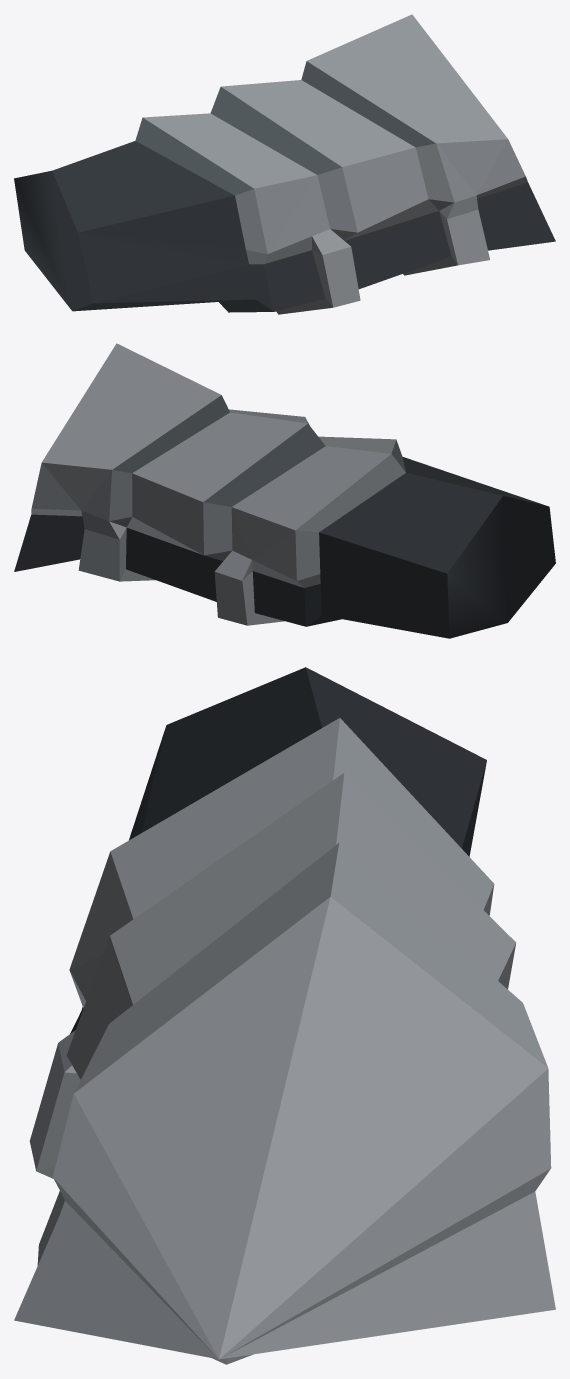
The model's file is Chr_ArmUpperRight_Male_01_Static.fbx.
3 views of the same model, one above another, from view 1: azimuth 30°, elevation 25°; view 2: azimuth 150°, elevation 25°; view 3: azimuth 270°, elevation 25° (orthographic). The views are drawn at different scales.
Visible parts, largest first — view 1: Chr_ArmUpperRight_Male_01_Static; view 2: Chr_ArmUpperRight_Male_01_Static; view 3: Chr_ArmUpperRight_Male_01_Static.
Part boxes in pixels (x1,y1,x2,y2): Chr_ArmUpperRight_Male_01_Static: [14, 14, 555, 314]; Chr_ArmUpperRight_Male_01_Static: [14, 343, 555, 638]; Chr_ArmUpperRight_Male_01_Static: [14, 667, 555, 1364].
Size of the model in its own units: 0.3204 by 0.1718 by 0.1736.
